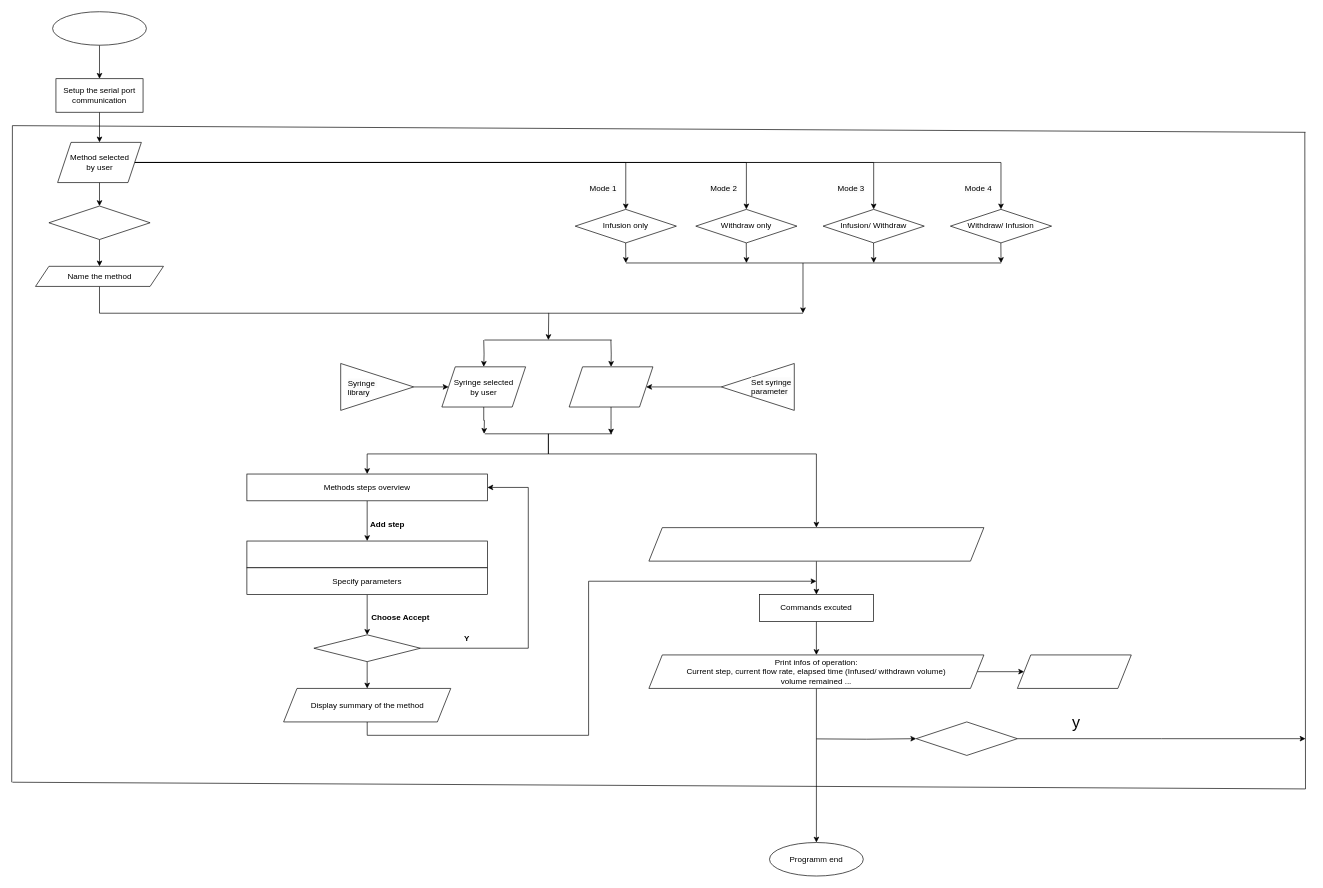
Some shapes in this 1323 by 888 pixel diagram are drawn without their labels. The centre of each missing label's shape, as x and y in pixels:
"Define a new syringe" goes at pixel 610 386.
"Display time course of flow rate" goes at pixel 1074 671.
"Initializing?" goes at pixel 966 738.
"more steps?" goes at pixel 366 648.
"Program start" goes at pixel 99 28.
"Set flow rate parameter (units)" goes at pixel 816 544.
"Step definition (select from 8 charateristics)" goes at pixel 366 554.
"User defined method" goes at pixel 99 222.
